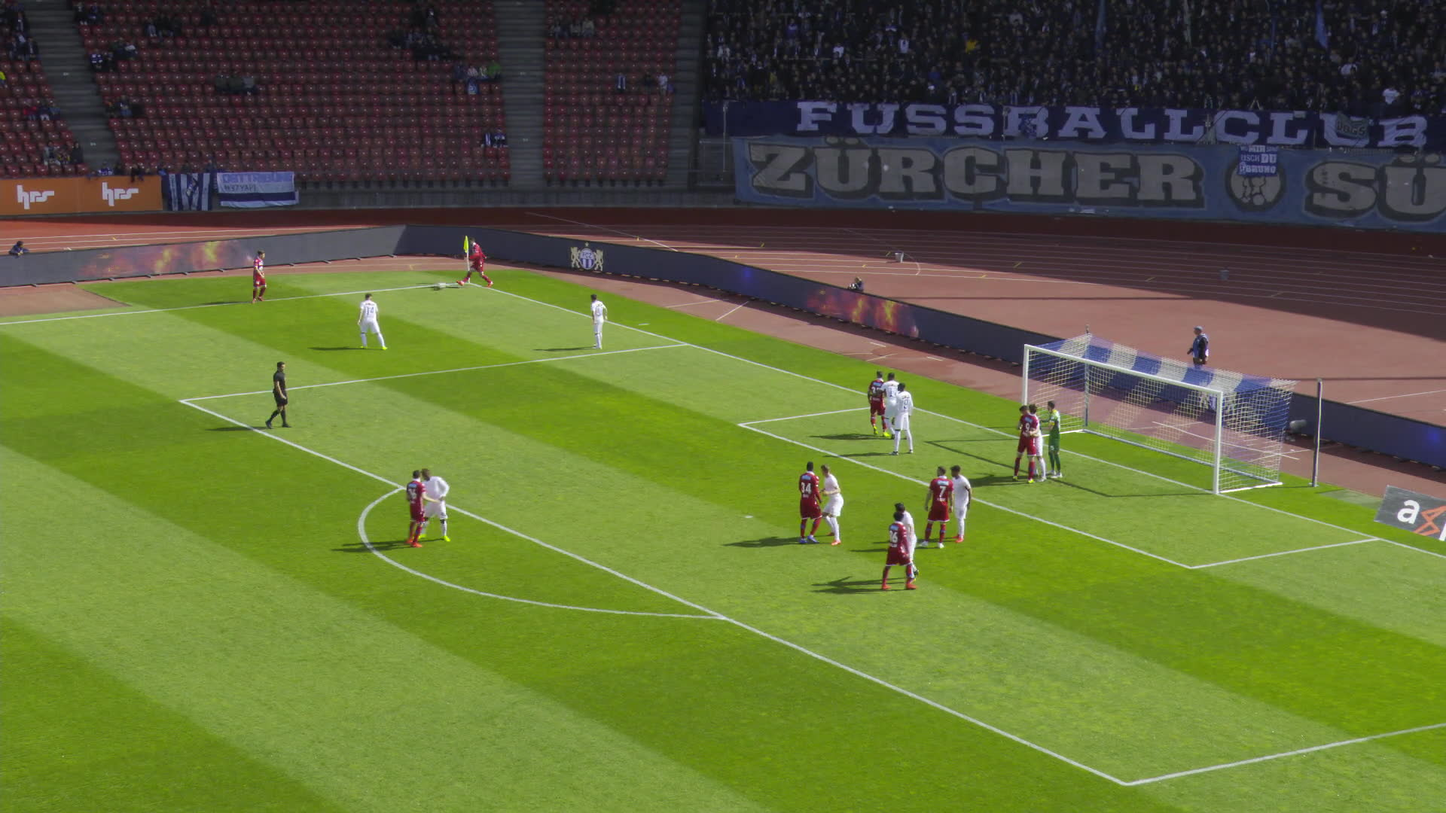ball: (438, 282, 445, 288)
player: (918, 466, 953, 550), (415, 467, 448, 542), (886, 511, 917, 590), (887, 501, 917, 582), (815, 465, 844, 547), (1011, 405, 1039, 483), (797, 461, 822, 544), (1024, 404, 1049, 483), (947, 465, 972, 543), (401, 470, 426, 547), (1039, 400, 1063, 480), (460, 236, 493, 288), (877, 372, 902, 436), (892, 382, 914, 453), (867, 370, 890, 437), (358, 290, 382, 350), (588, 294, 608, 349), (261, 251, 281, 304)
referee: (266, 361, 291, 429)
